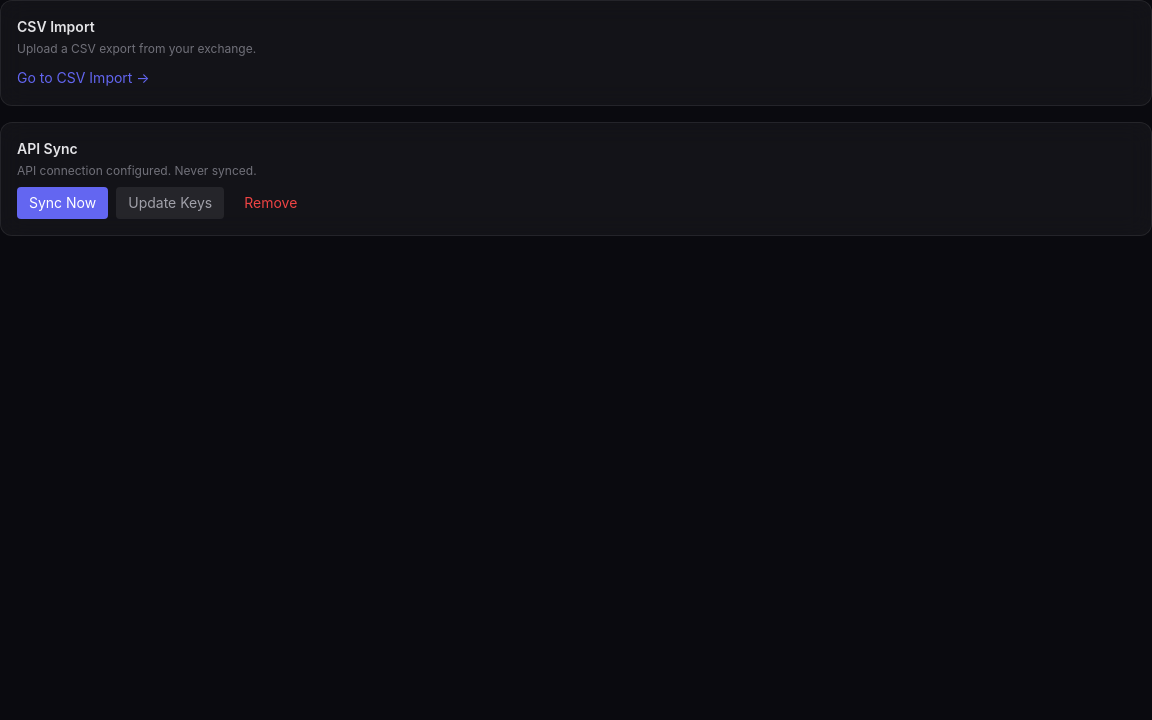
Scenario: WalletImportSync › opens connection form on Update Keys click
Click the button "Update Keys" at (170, 203), box [116,187,224,219]
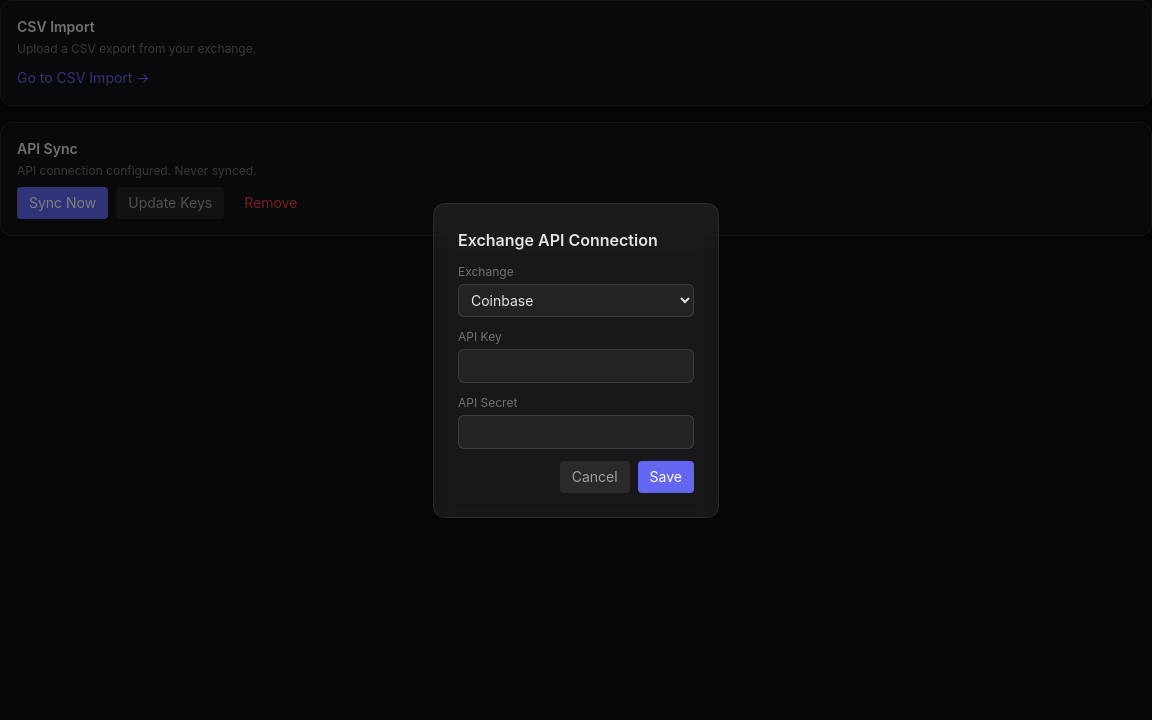
Result: the heading "Exchange API Connection" is shown at [458,230,658,250]
